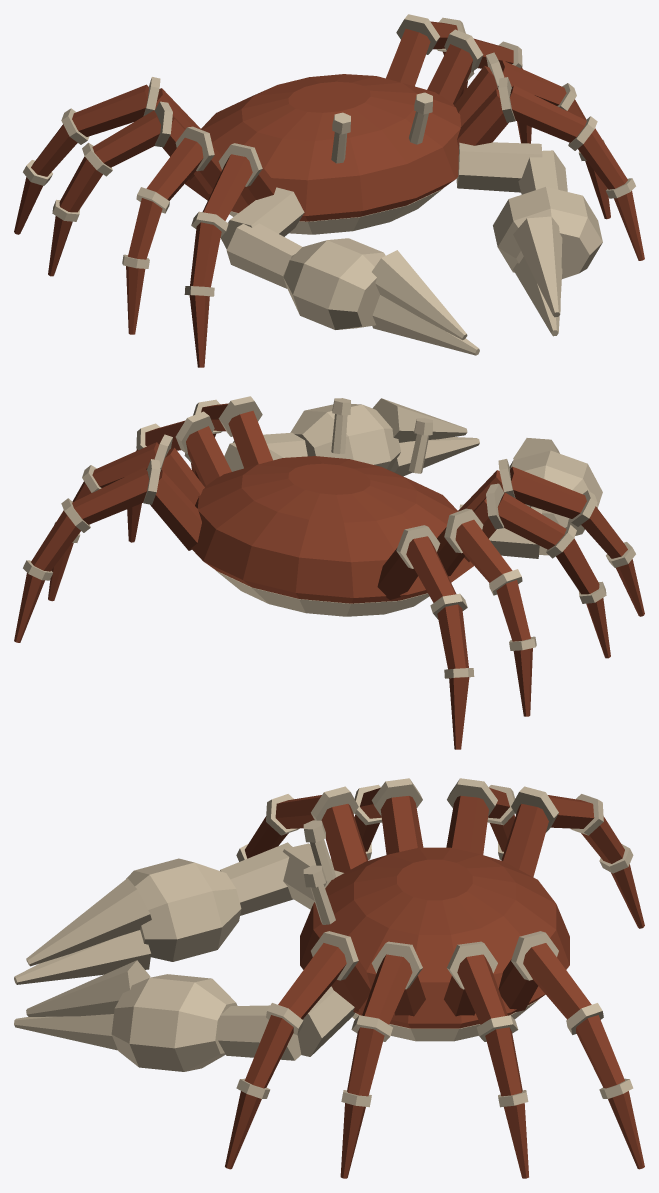
The model's file is crab.glb.
3 views of the same model, one above another, from view 1: azimuth 30°, elevation 25°; view 2: azimuth 150°, elevation 25°; view 3: azimuth 270°, elevation 25° (orthographic). The views are drawn at different scales.
Parts seen in each view (by area): view 1: Crab; view 2: Crab; view 3: Crab.
Part boxes in pixels (left/top/right/bottom): Crab: left=14, top=14, right=644, bottom=367; Crab: left=14, top=396, right=644, bottom=749; Crab: left=14, top=778, right=644, bottom=1178.
Size of the model in its own units: 0.2002 by 0.0715 by 0.2017.
